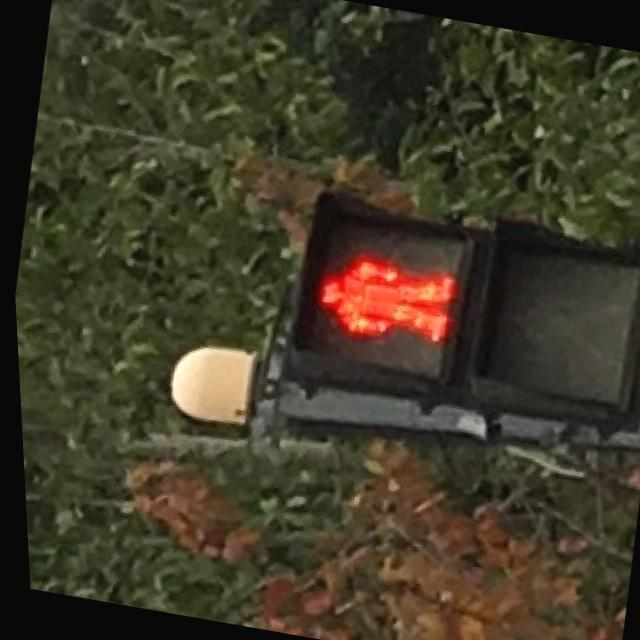red_light: (287, 225, 468, 374)
